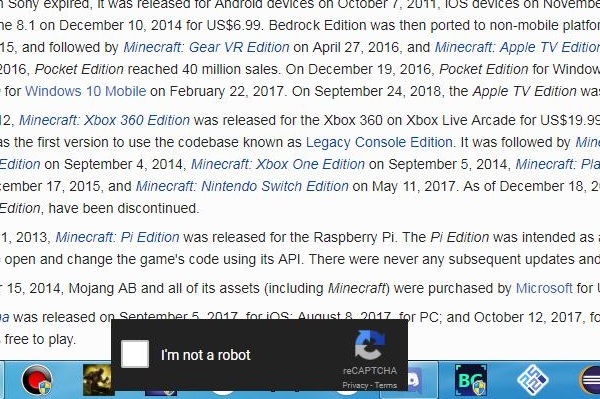captcha: (120, 339, 253, 368)
